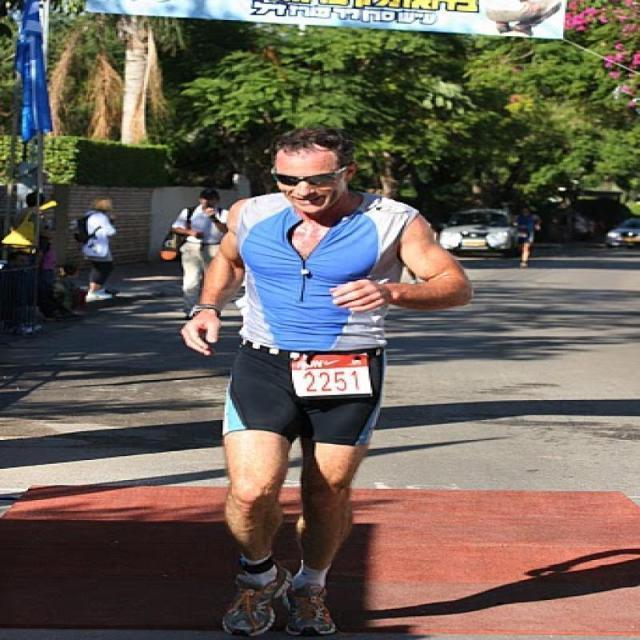dorsal: (284, 350, 378, 402)
